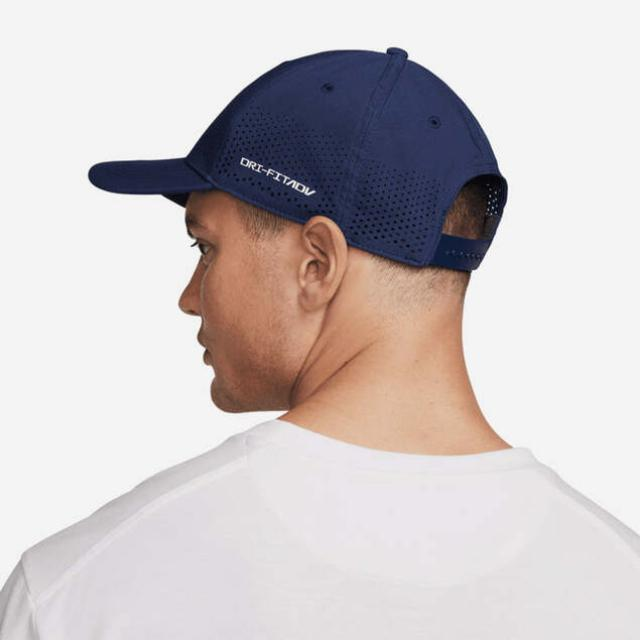Nonhelmet: (86, 43, 510, 423)
